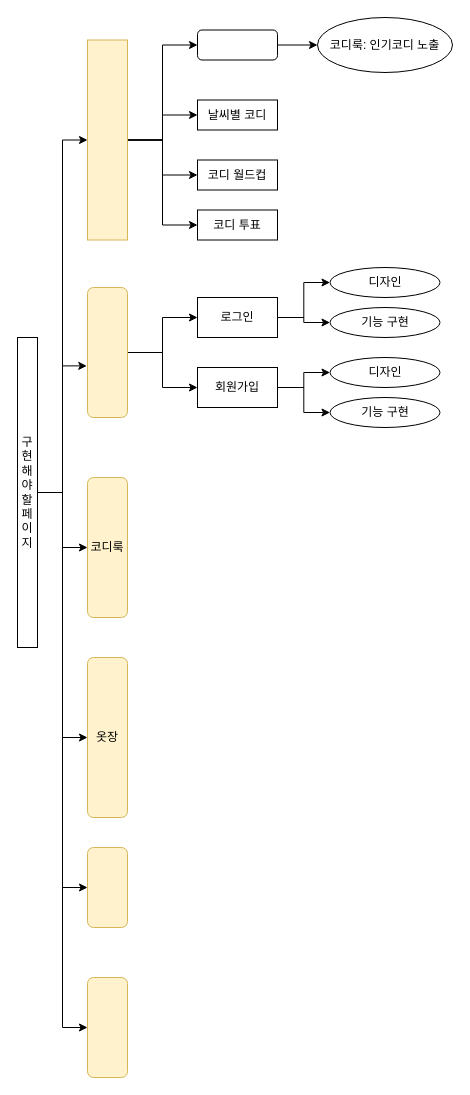
This 470x1095 diagram has some shape labels left out. Here are the shapes that lost their labels. From the top down, the box of each, then its label:
(196, 29, 278, 60): post
(86, 39, 128, 240): 메인페이지
(86, 286, 128, 418): 로그인/회원가입
(86, 846, 128, 928): 옷 검색
(86, 976, 128, 1078): 옷 추천
